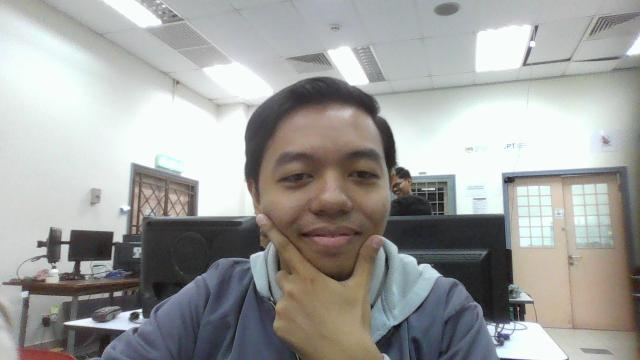senang: (225, 70, 410, 298)
